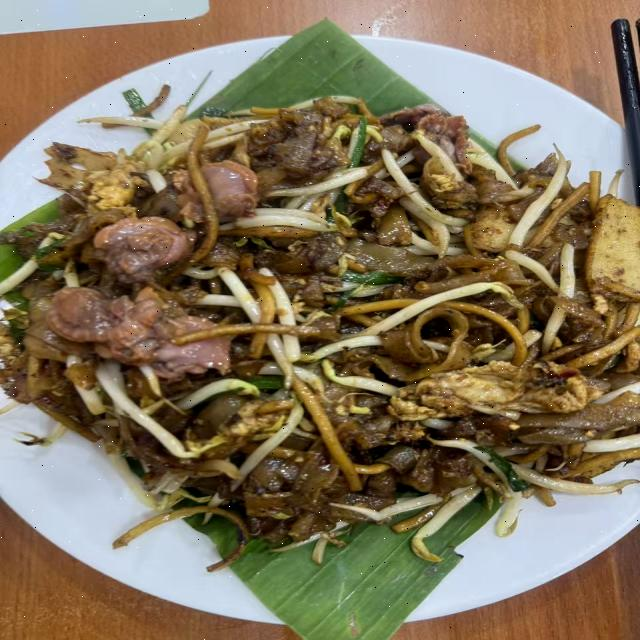Char Kway Teow: (3, 47, 639, 571)
